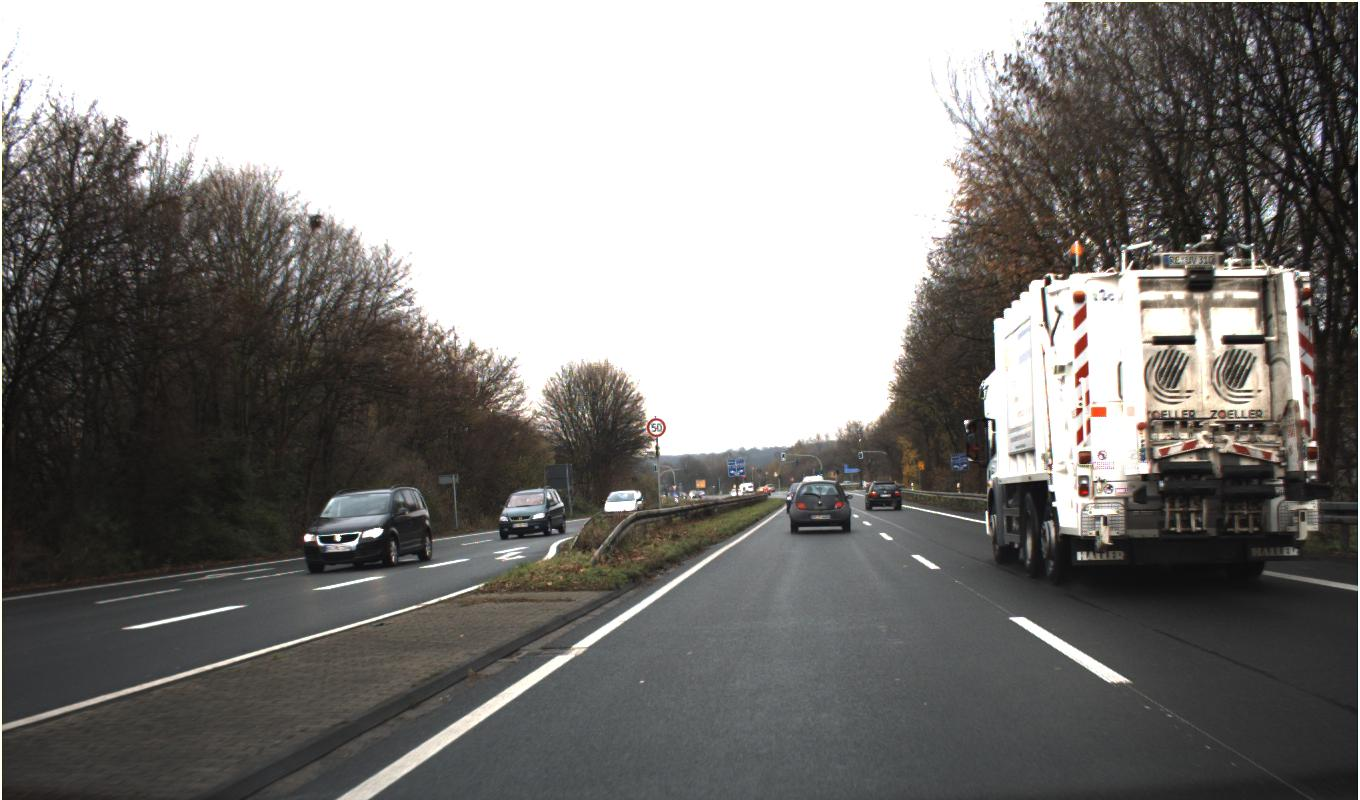prohibitory: (646, 417, 666, 437)
